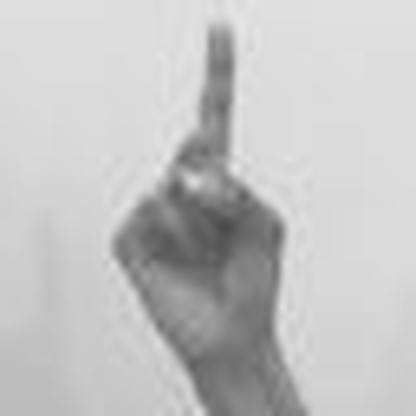d: (97, 11, 318, 358)
